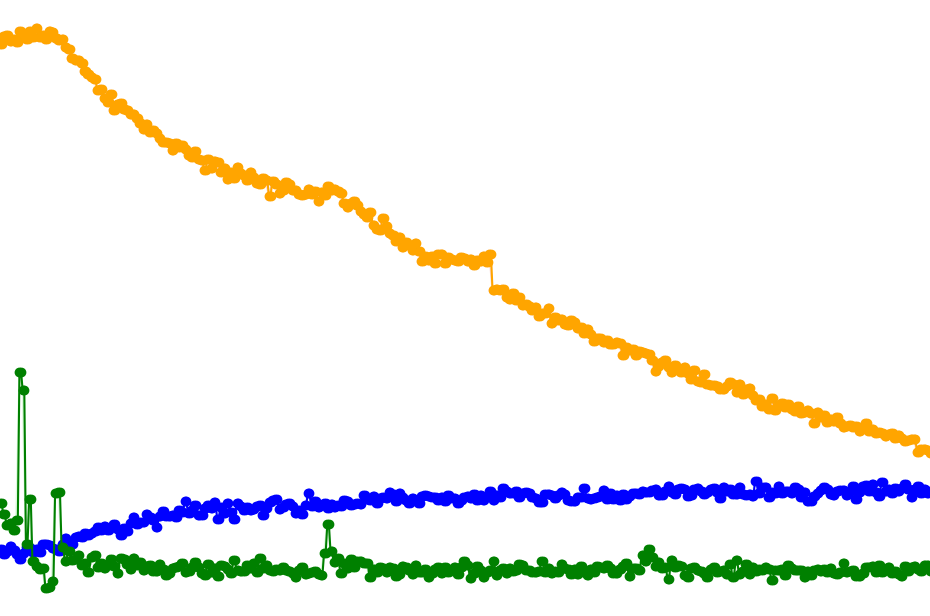Condensation (CO2): (38, 0, 116, 616)
Normal: (116, 0, 930, 616), (38, 0, 505, 616), (38, 0, 349, 616), (0, 0, 116, 616)
